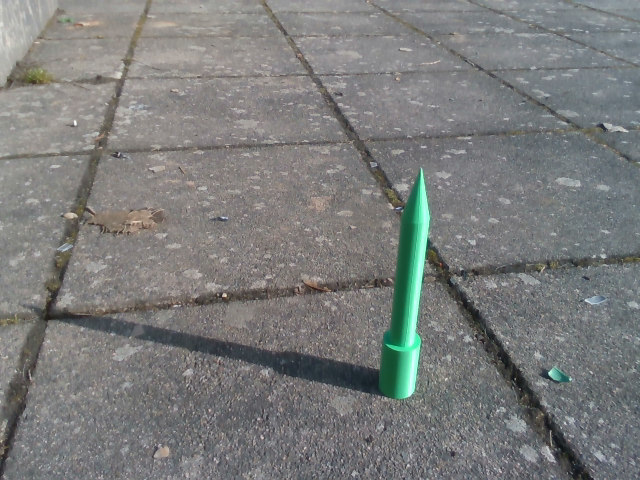Probe: (369, 160, 440, 407)
